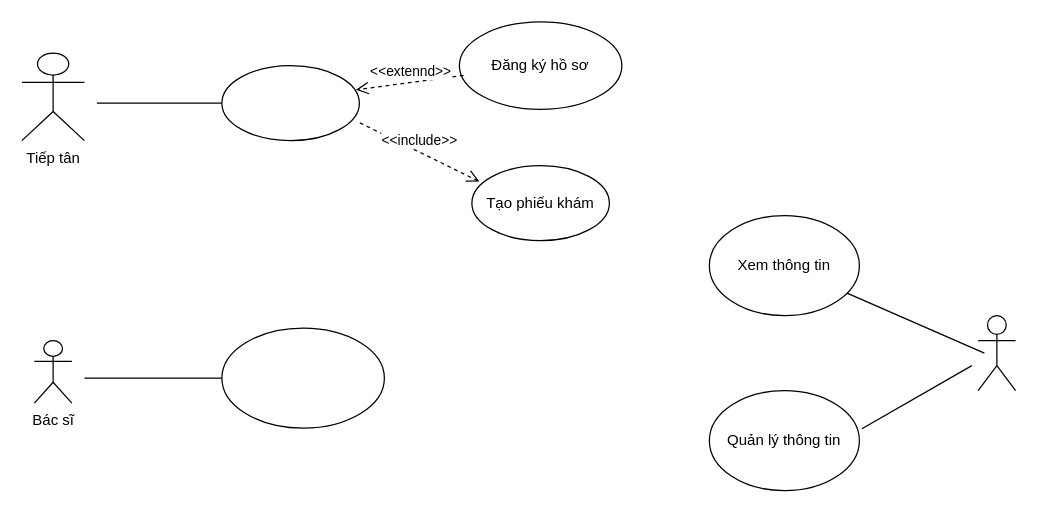
Image size: 1040x513. Some labels were removed from this diagram. Here are the shapes that lost their labels. From the top down, the box of each, then its label:
(221, 64, 359, 141): Tiếp nhận
(977, 314, 1016, 391): Admin
(221, 327, 384, 428): Chỉ định cận lâm sàng
